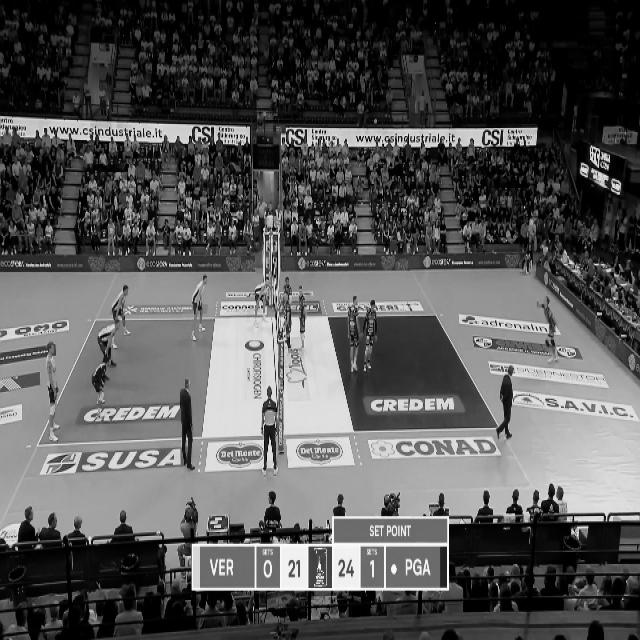volleyball court: (35, 314, 506, 444)
